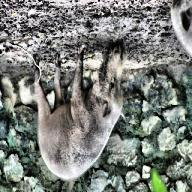boar: (32, 40, 127, 182)
